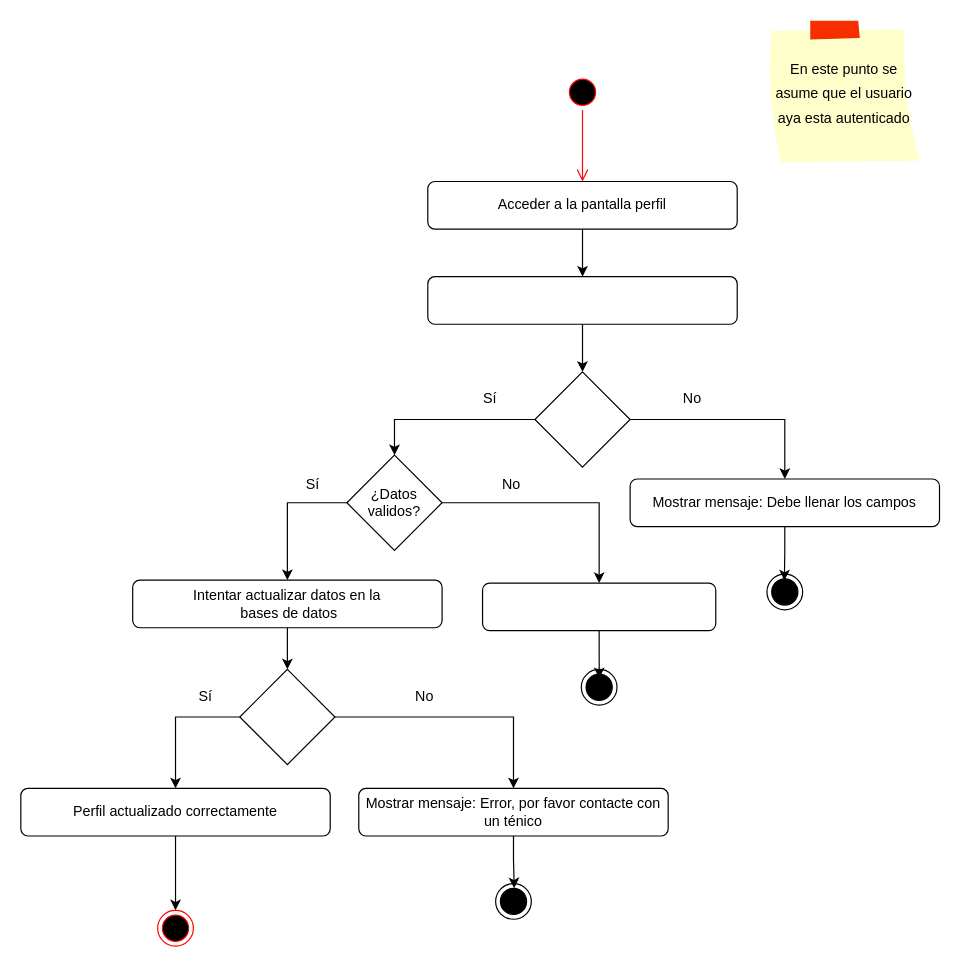
Some shapes in this 960 by 967 pixel diagram are drawn without their labels. Each missing label, with the box of its shape:
Ingresar la nueva informacion personal y preferecias: (427, 275, 737, 324)
Mostar mensaje de error y solicitar correcion de datos: (481, 582, 716, 631)
¿Actualizacion exitosa?: (239, 668, 335, 765)
¿Campos llenos?: (534, 371, 630, 467)
